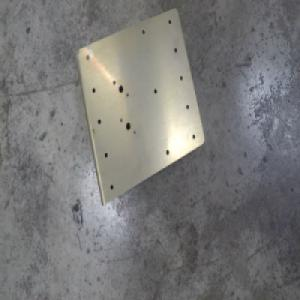MetalSheet: (72, 4, 206, 208)
